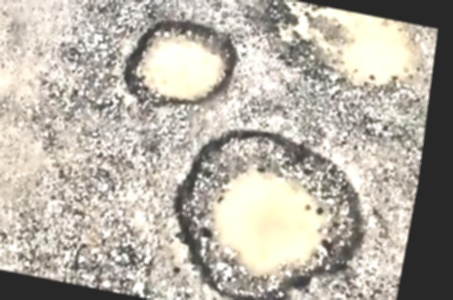pothole: (152, 111, 385, 300), (259, 0, 434, 105), (116, 8, 246, 119)
